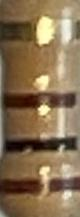Black: (4, 134, 78, 152)
Brown: (4, 92, 77, 109)
Side-Gold: (0, 19, 80, 43)
